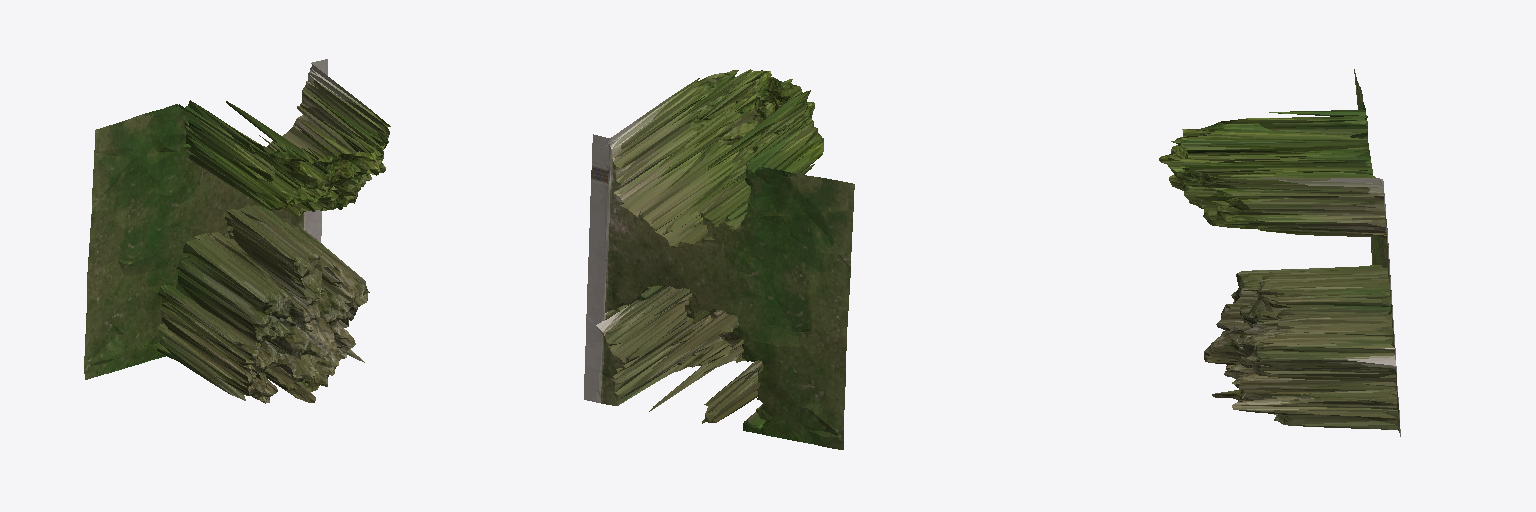
3 renders of one model, left to right at view 1: azimuth 30°, elevation 25°; view 2: azimuth 150°, elevation 25°; view 3: azimuth 270°, elevation 25°, orthographic.
Visible parts, largest first — view 1: grp1; view 2: grp1; view 3: grp1.
Boxes of the visible parts, <box> form: grp1: <box>84,59,390,403</box>; grp1: <box>584,69,854,449</box>; grp1: <box>1159,69,1400,436</box>.
Bounding box in the file's own units: 10 × 10 × 8.49.
1 materials, 1 textured.